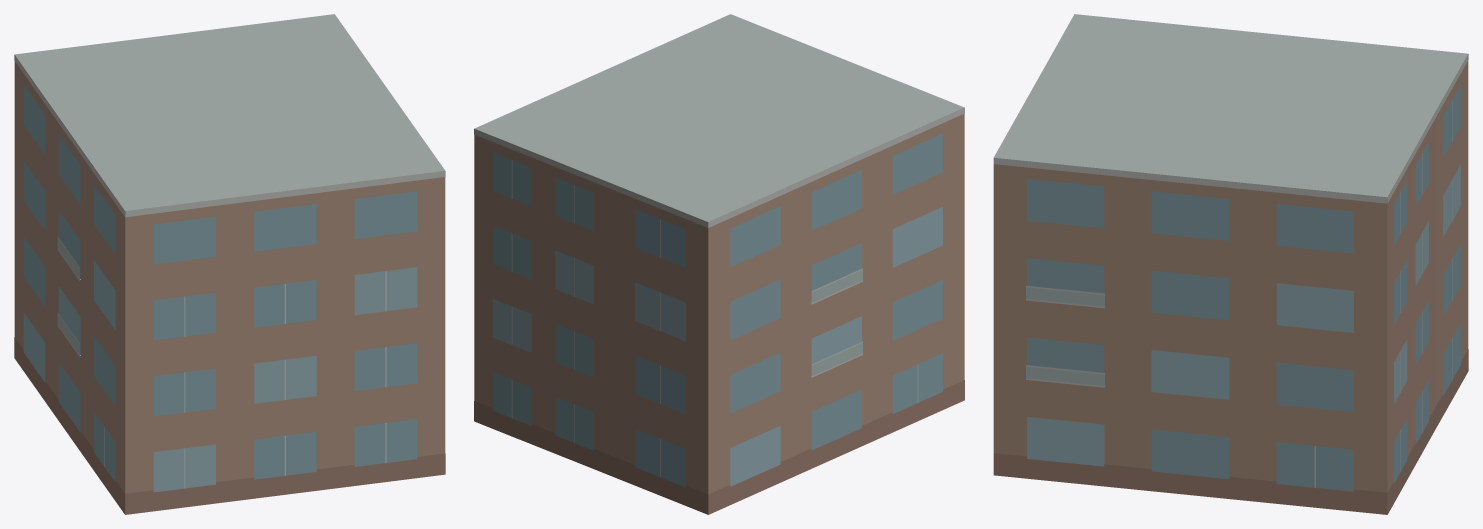
Rendered from residential-27466141-48e8-4a5f-8245-61a40acc1a14.glb.
The picture shows the model from 3 angles, left to right: view 1: azimuth 30°, elevation 25°; view 2: azimuth 150°, elevation 25°; view 3: azimuth 270°, elevation 25°; orthographic projection. The views are drawn at different scales.
Parts seen in each view (by area): view 1: residential-27466141-48e8-4a5f-8245-61a40acc1a14.tmp; view 2: residential-27466141-48e8-4a5f-8245-61a40acc1a14.tmp; view 3: residential-27466141-48e8-4a5f-8245-61a40acc1a14.tmp.
Part boxes in pixels (left/top/right/bottom): residential-27466141-48e8-4a5f-8245-61a40acc1a14.tmp: left=14, top=14, right=445, bottom=514; residential-27466141-48e8-4a5f-8245-61a40acc1a14.tmp: left=474, top=14, right=964, bottom=514; residential-27466141-48e8-4a5f-8245-61a40acc1a14.tmp: left=993, top=14, right=1468, bottom=514.
Bounding box in the file's own units: 15.11 × 12.2 × 16.54.
